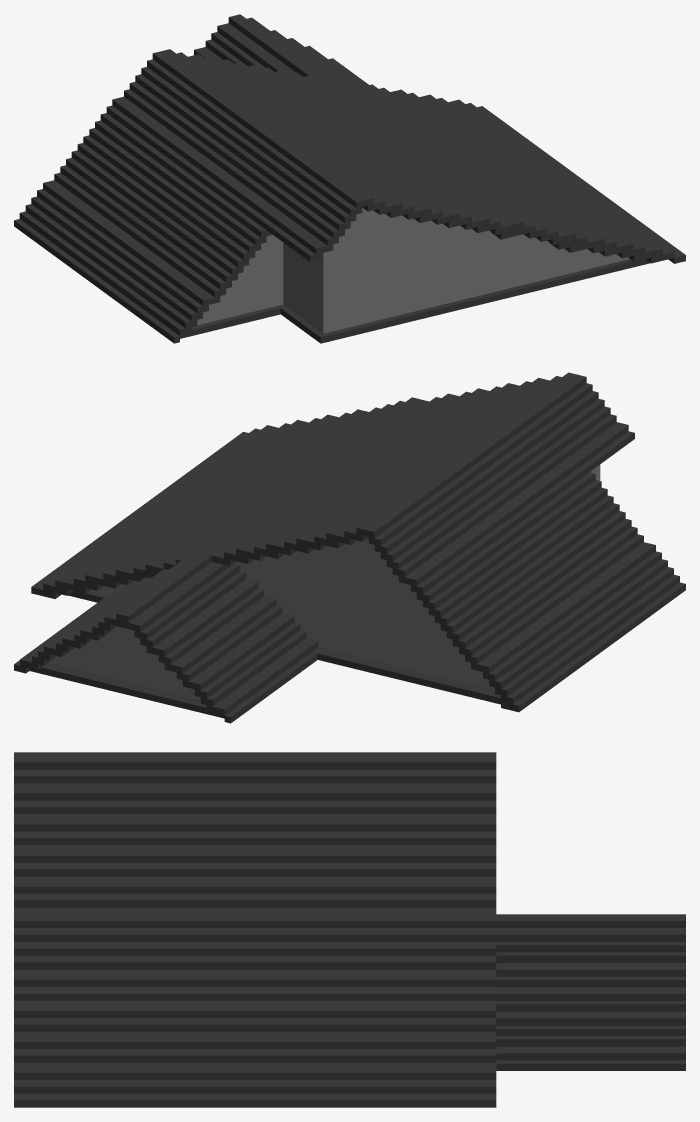
The model's file is Small House v0.5-0-Roof.obj.
3 views of the same model, one above another, from view 1: azimuth 30°, elevation 25°; view 2: azimuth 150°, elevation 25°; view 3: azimuth 270°, elevation 25° (orthographic). The views are drawn at different scales.
Parts seen in each view (by area): view 1: Roof; view 2: Roof; view 3: Roof.
Boxes of the visible parts, x1,y1,x2,y2 form: Roof: [14, 14, 685, 343]; Roof: [14, 372, 685, 723]; Roof: [14, 752, 685, 1107].
Bounding box in the file's own units: 8.1 × 2.3 × 8.5.
